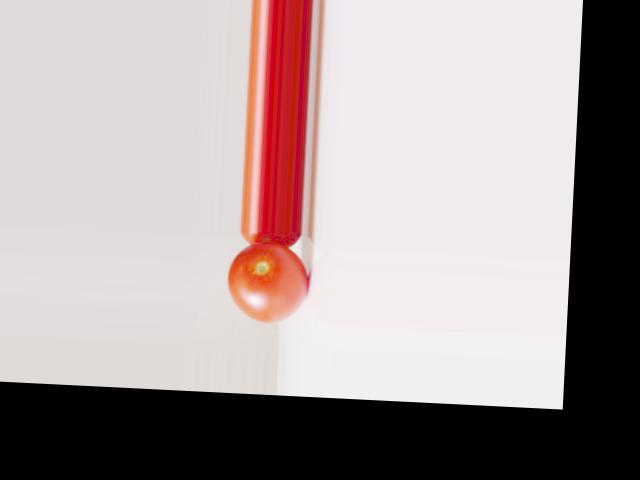tomato: (225, 240, 309, 324)
